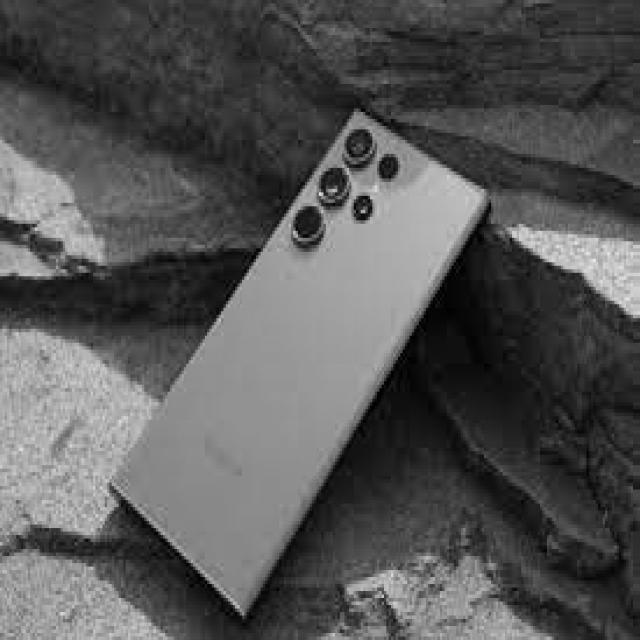No gun_phone: (109, 113, 489, 618)
